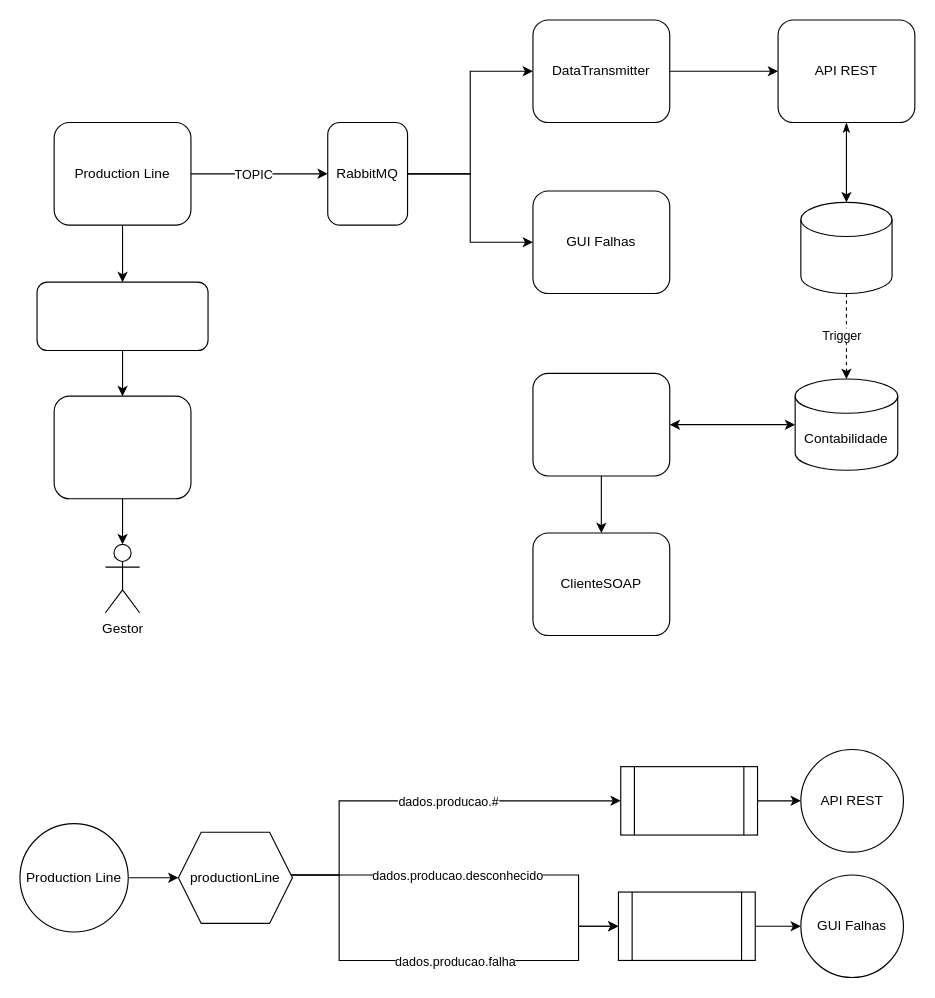
Some shapes in this 935 by 998 pixel diagram are drawn without their labels. The centre of each missing label's shape, as x and y in pixels:
"Analytics GUI" goes at (x=122, y=447).
"API SOAP" goes at (x=601, y=424).
"DadosProd" goes at (x=689, y=800).
"FalhasProd" goes at (x=686, y=925).
"Producao" goes at (x=846, y=247).
"Rabbit MQ Stream (com retenção - backlogs )" goes at (x=122, y=316).
